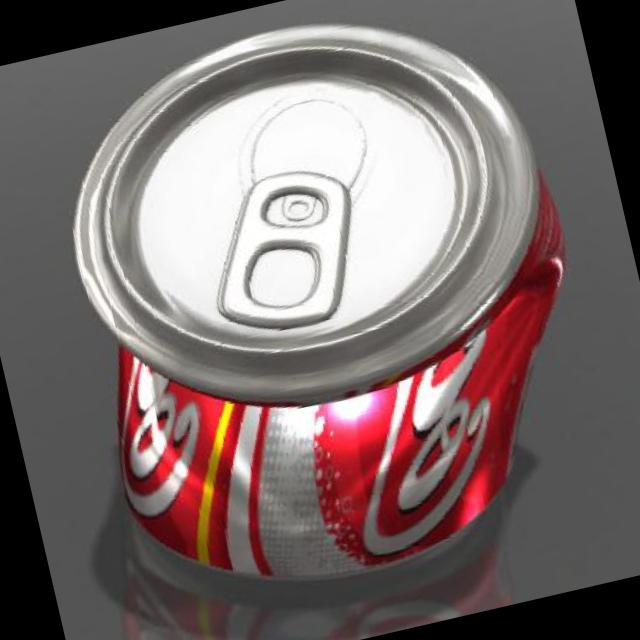Kaleng: (26, 0, 631, 627)
